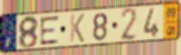2: (120, 6, 138, 44)
4: (142, 6, 161, 39)
8: (17, 14, 40, 50), (92, 12, 109, 42)
E: (38, 14, 60, 47)
K: (69, 13, 86, 44)
